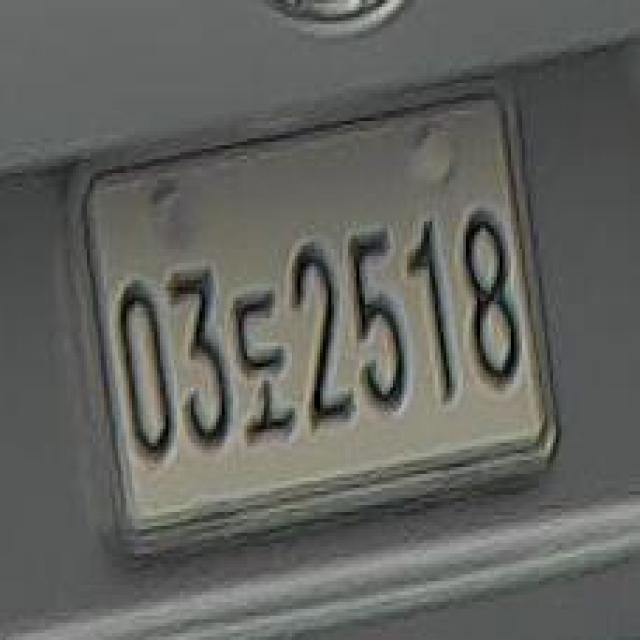illegal_plate: (90, 84, 551, 539)
